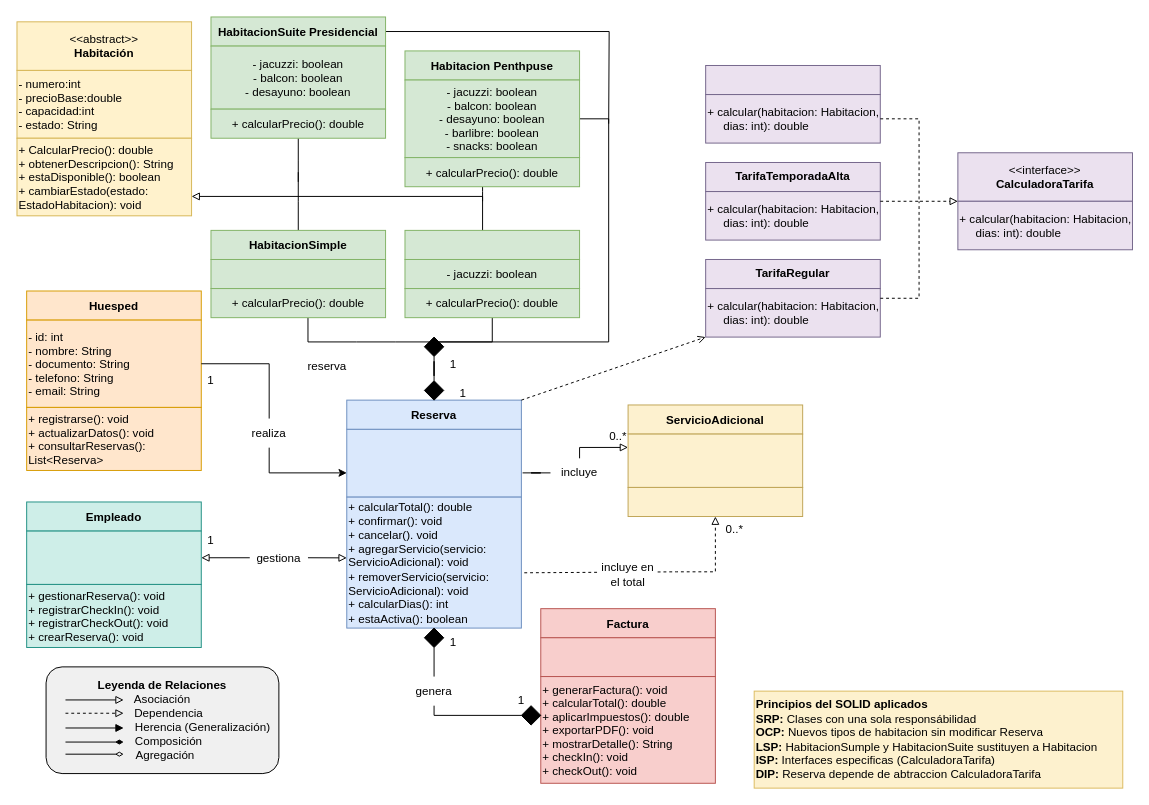
Some shapes in this 1149 by 805 pixel diagram are drawn without their labels. The centre of each missing label's shape, as x and y in pixels:
+ calcularCosto(): double: point (715, 501)
- id: int - fechaInicio: Date - fechaFin: Date - estado: String: point (433, 462)
- id: int - nombre: String - cargo: String: point (113, 557)
- id: int - nombre: String - precio: double: point (715, 460)
- id: int - total: double: point (627, 657)
HabitacionSuite: point (492, 244)
TarifaDescuento: point (792, 80)
